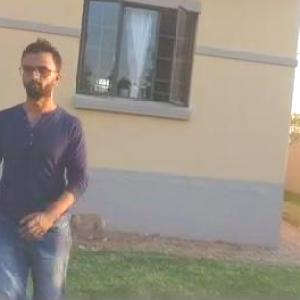follow: (0, 28, 96, 299)
null: (67, 209, 111, 244)
